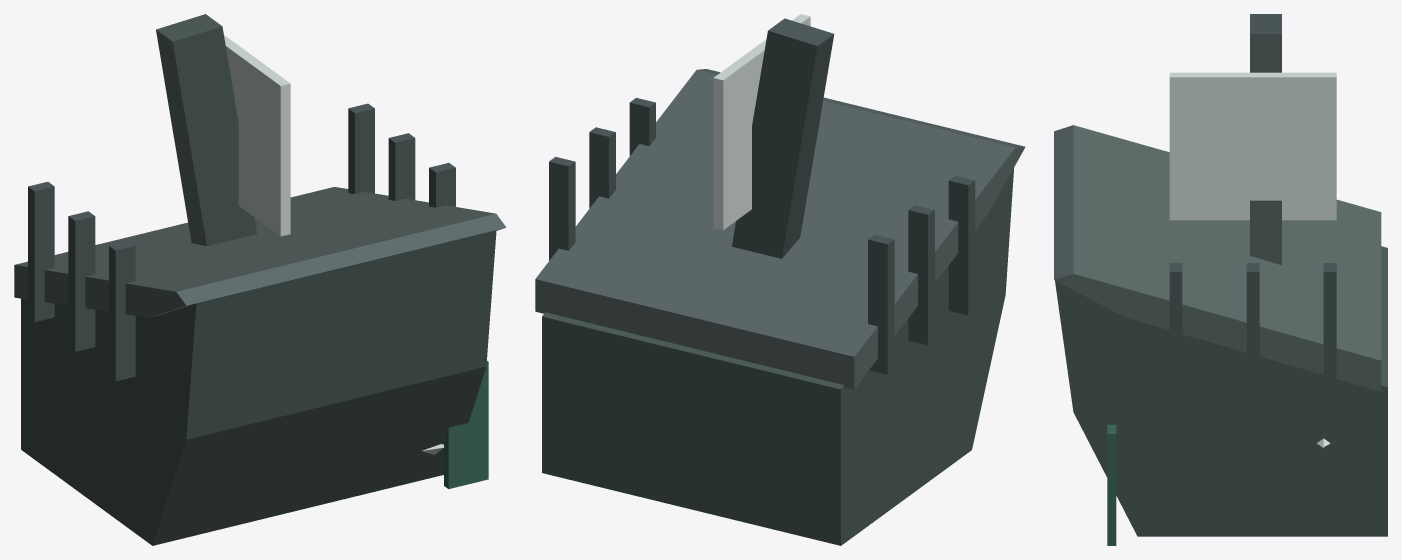
File: env_r14_sunken_ship_bow.glb
3 renders of one model, left to right at view 1: azimuth 30°, elevation 25°; view 2: azimuth 150°, elevation 25°; view 3: azimuth 270°, elevation 25°, orthographic. The views are drawn at different scales.
Parts seen in each view (by area): view 1: env_r14_sunken_ship_bow; view 2: env_r14_sunken_ship_bow; view 3: env_r14_sunken_ship_bow.
Part boxes in pixels (x1,y1,x2,y2): env_r14_sunken_ship_bow: [14, 14, 506, 545]; env_r14_sunken_ship_bow: [535, 14, 1025, 545]; env_r14_sunken_ship_bow: [1054, 14, 1387, 545].
Size of the model in its own units: 5.6 by 7 by 5.
1 material, 1 textured.
